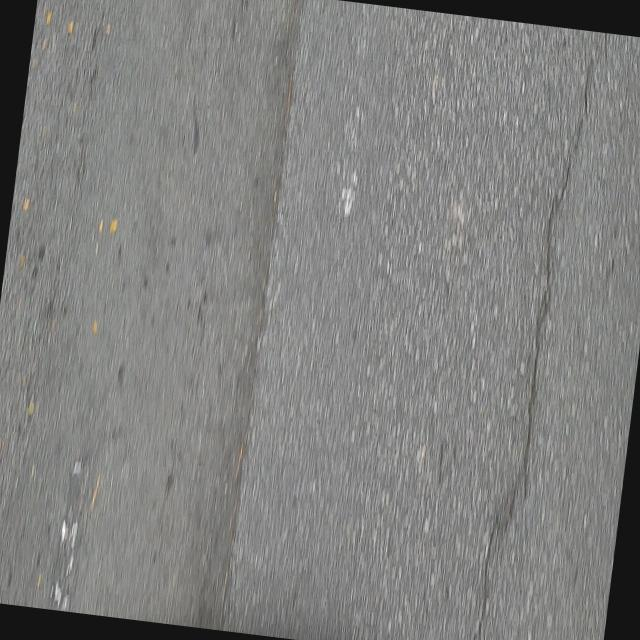Retak-Memanjang: (473, 64, 596, 640)
